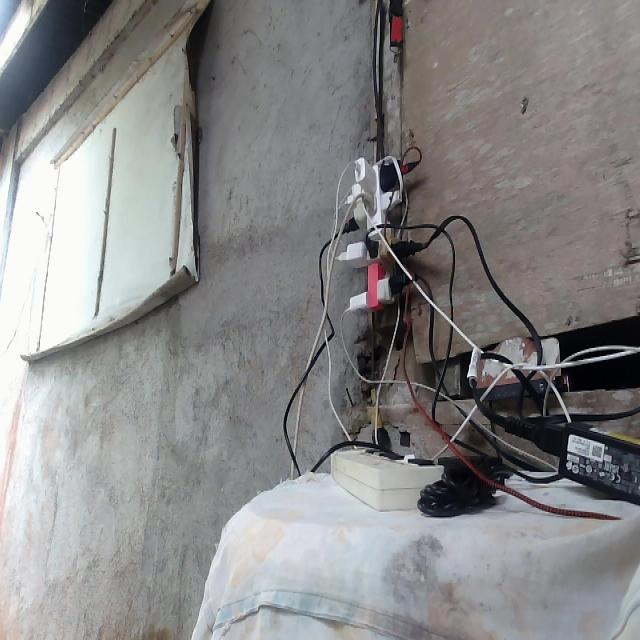-: (330, 155, 422, 308)
